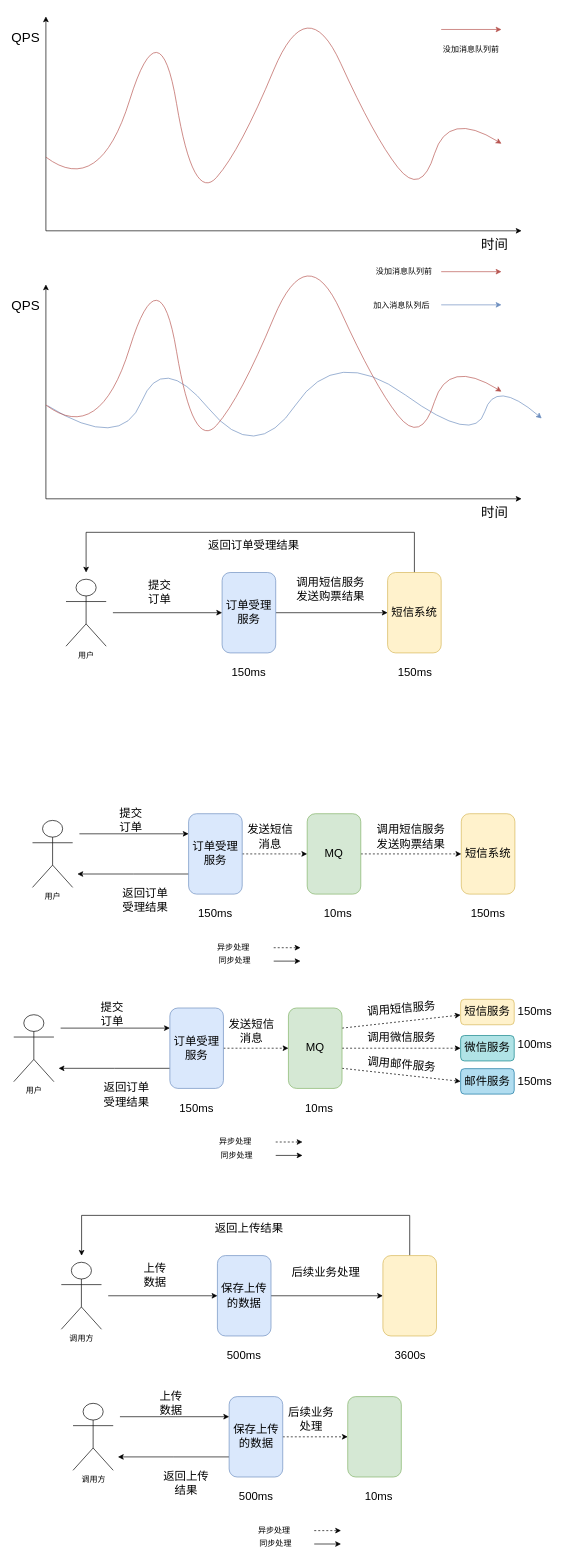
Image size: 563x1562. Some labels were removed from this diagram. The shapes that lost their labels are listed below. From the top down, each one's centre as x and y in pixels, then its label:
[409,1295]: 处理上传的数据
[374,1436]: 处理上传数据的定时任务
